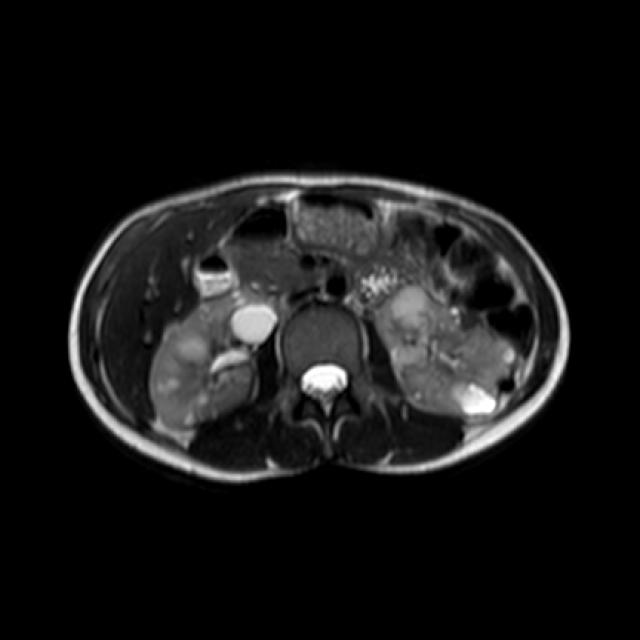sag: (152, 290, 278, 429)
sol: (375, 284, 518, 416)
